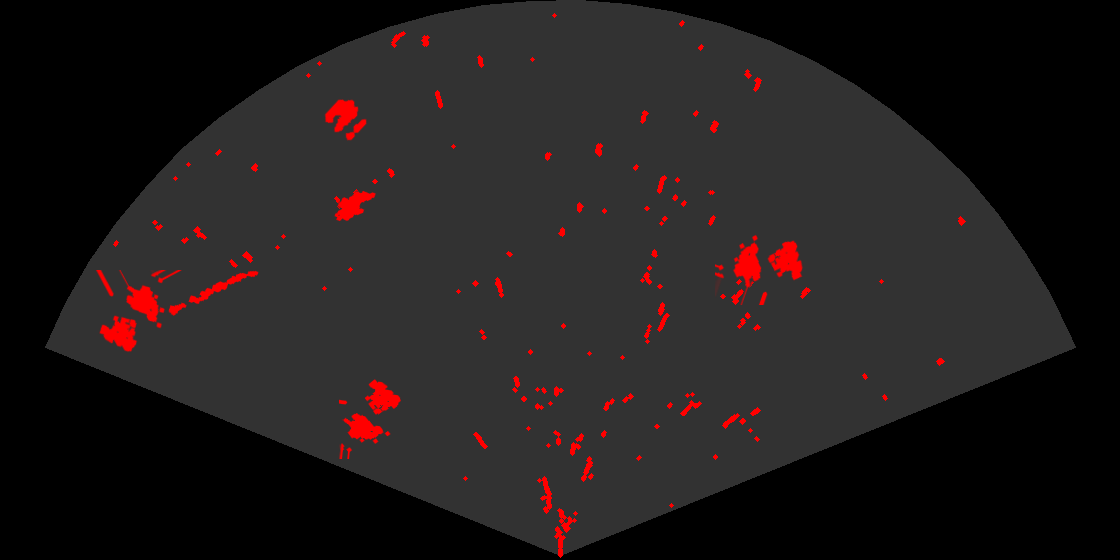AUV: (333, 189, 377, 223)
ball: (323, 98, 368, 142)
cage: (94, 270, 183, 354), (715, 233, 805, 305), (339, 378, 402, 459)
chain: (167, 269, 260, 317)
